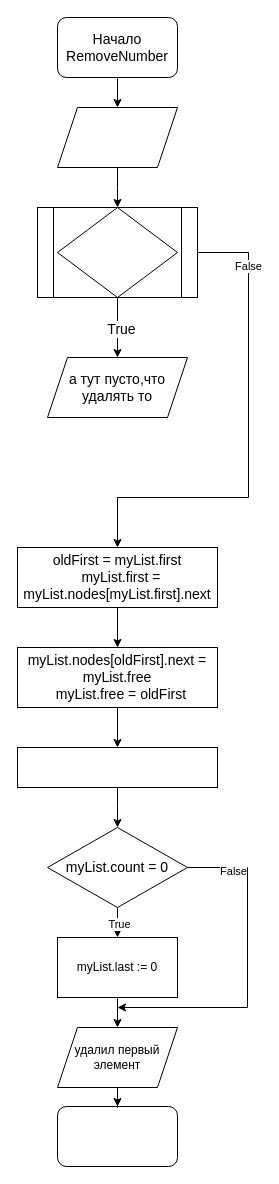
Image size: 279x1184. Some labels were removed from this diagram. Each missing label, with the box of its shape:
IsEmpty(list): (56, 206, 178, 298)
myList.count = myList.count - 1: (16, 746, 218, 788)
Ввести lst: (56, 106, 178, 168)
Конец RemoveNumber: (56, 1106, 178, 1166)
